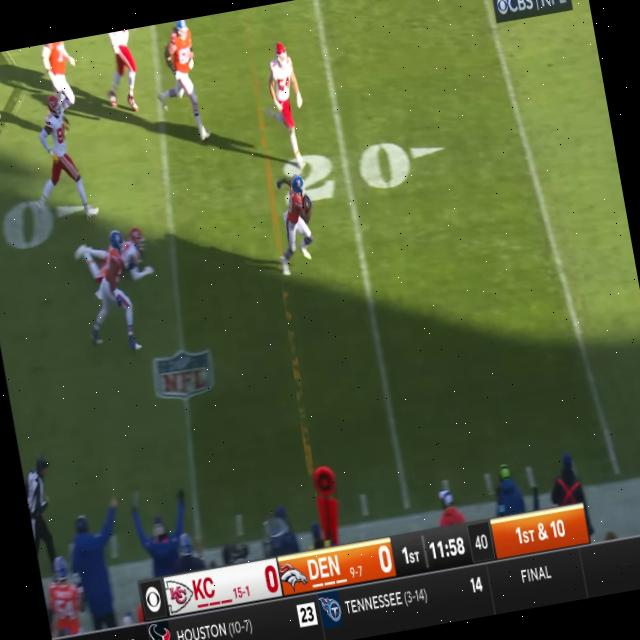Player: (29, 93, 92, 226), (154, 18, 212, 148), (260, 38, 315, 172), (89, 228, 140, 356), (270, 172, 323, 272), (120, 223, 155, 281)
Referee: (19, 452, 62, 562)
